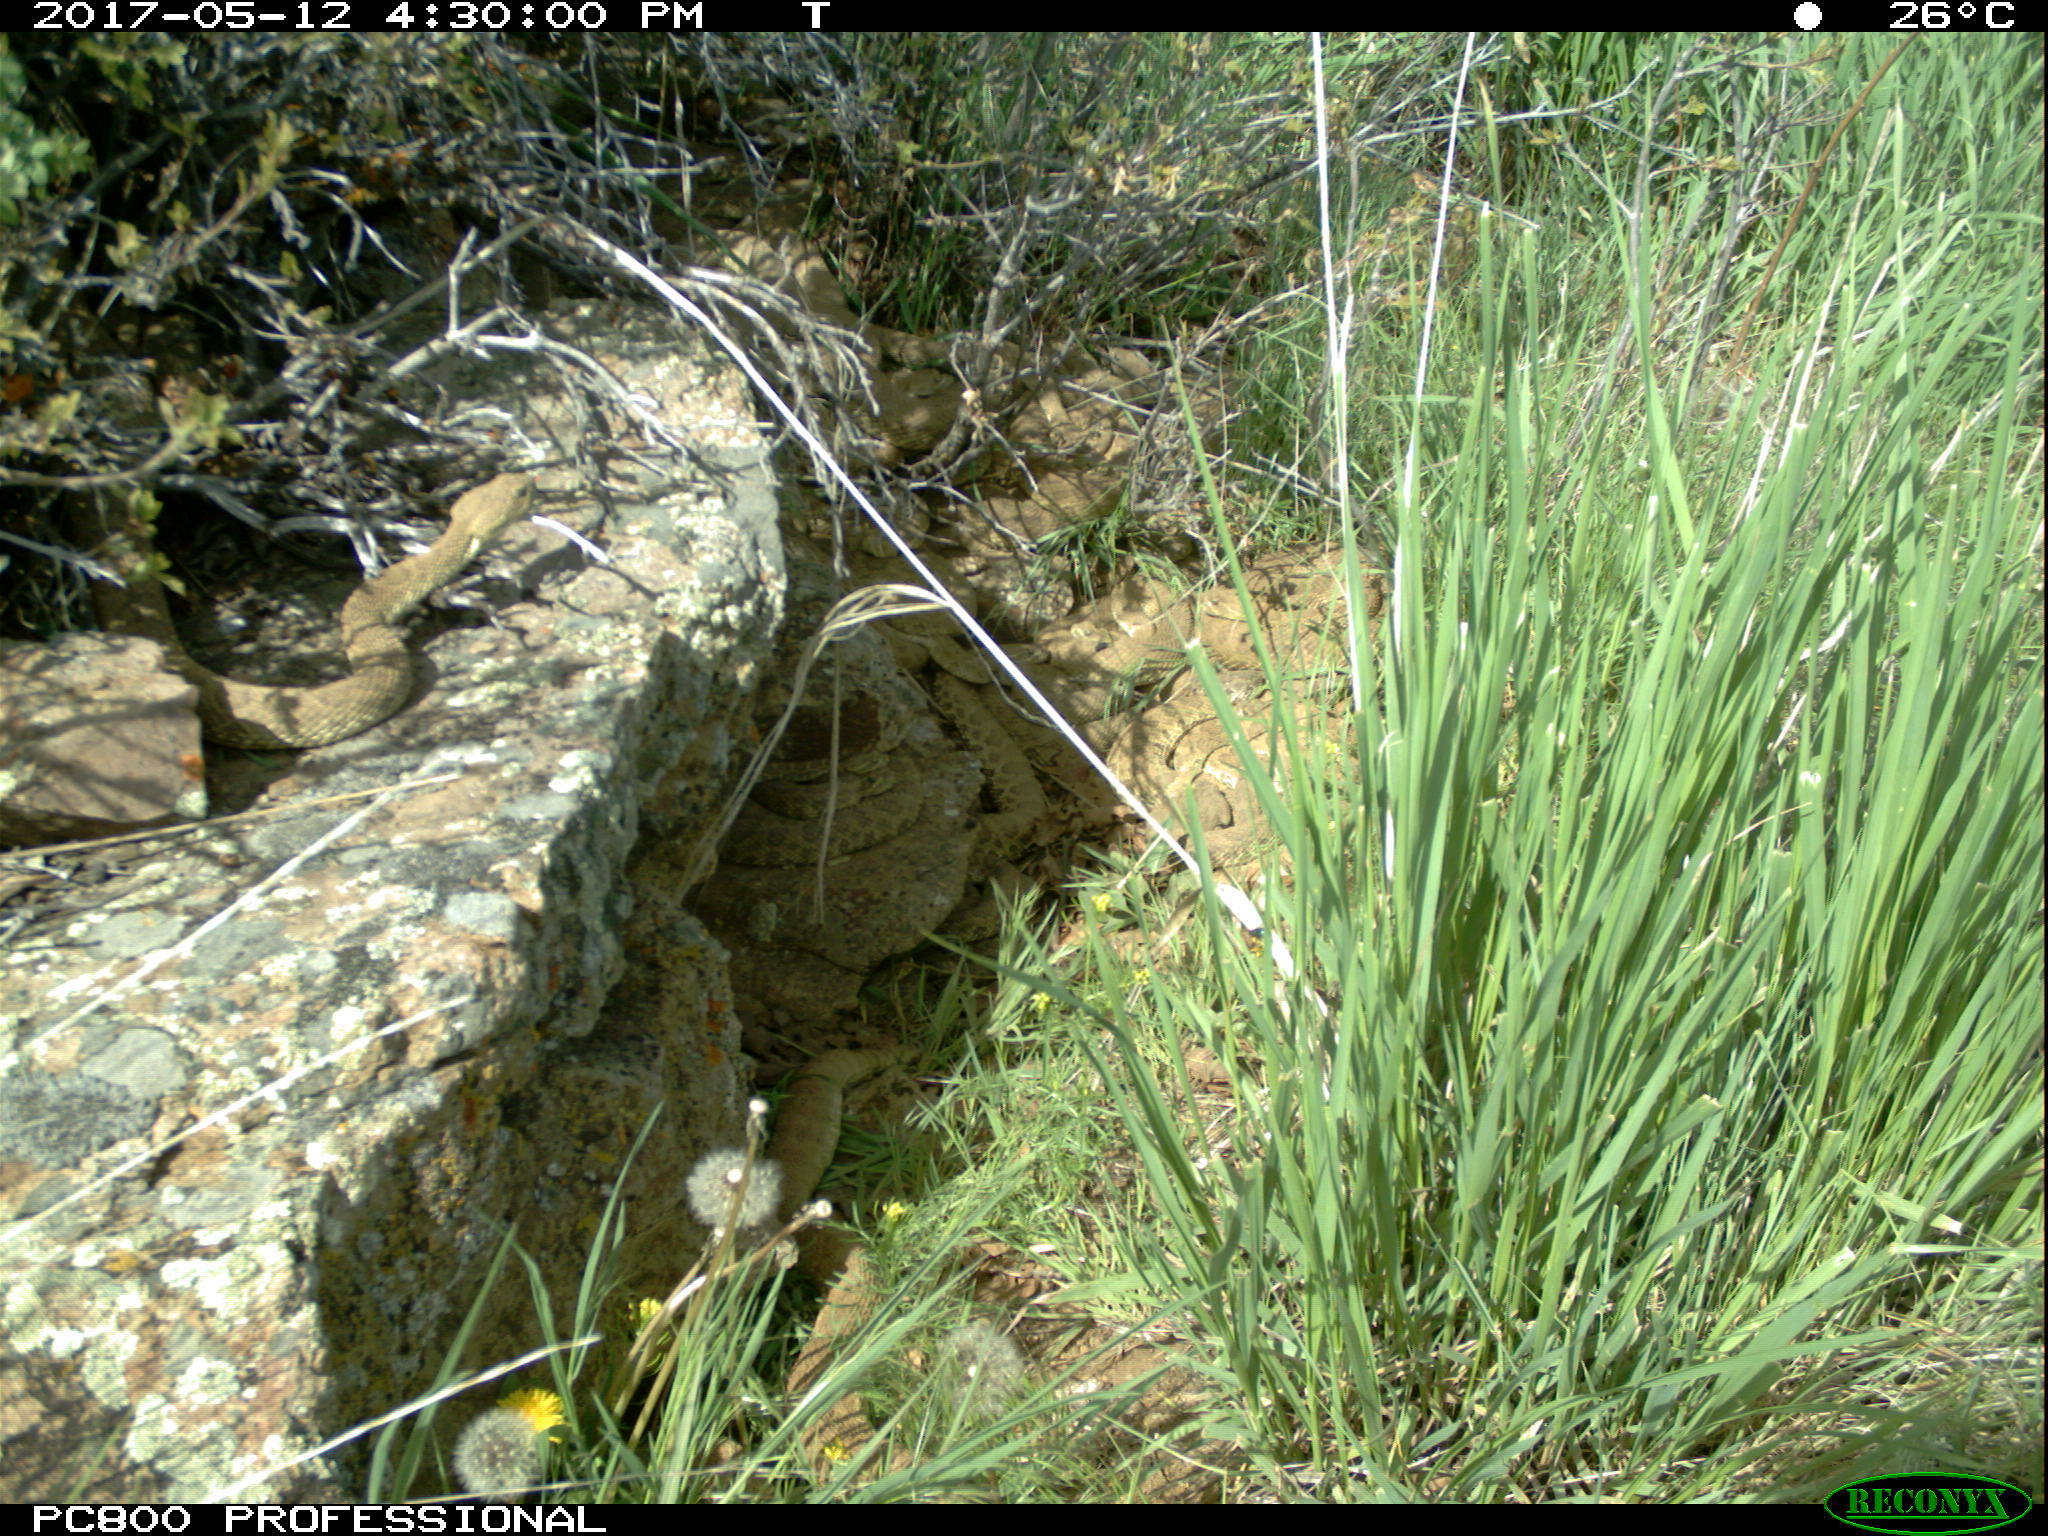snake: (98, 466, 537, 753), (769, 1044, 943, 1501), (911, 620, 1143, 805), (1206, 541, 1401, 728), (1113, 671, 1287, 870), (921, 458, 1168, 557), (834, 316, 985, 461), (734, 749, 942, 852)
